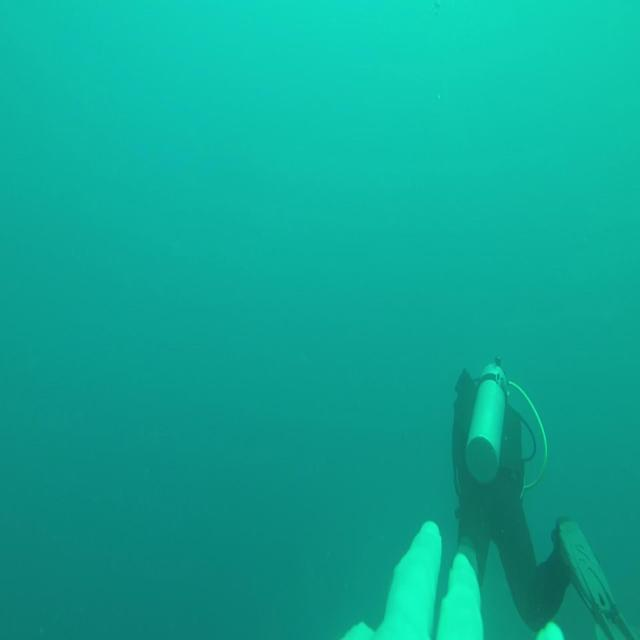human: (450, 357, 634, 638)
